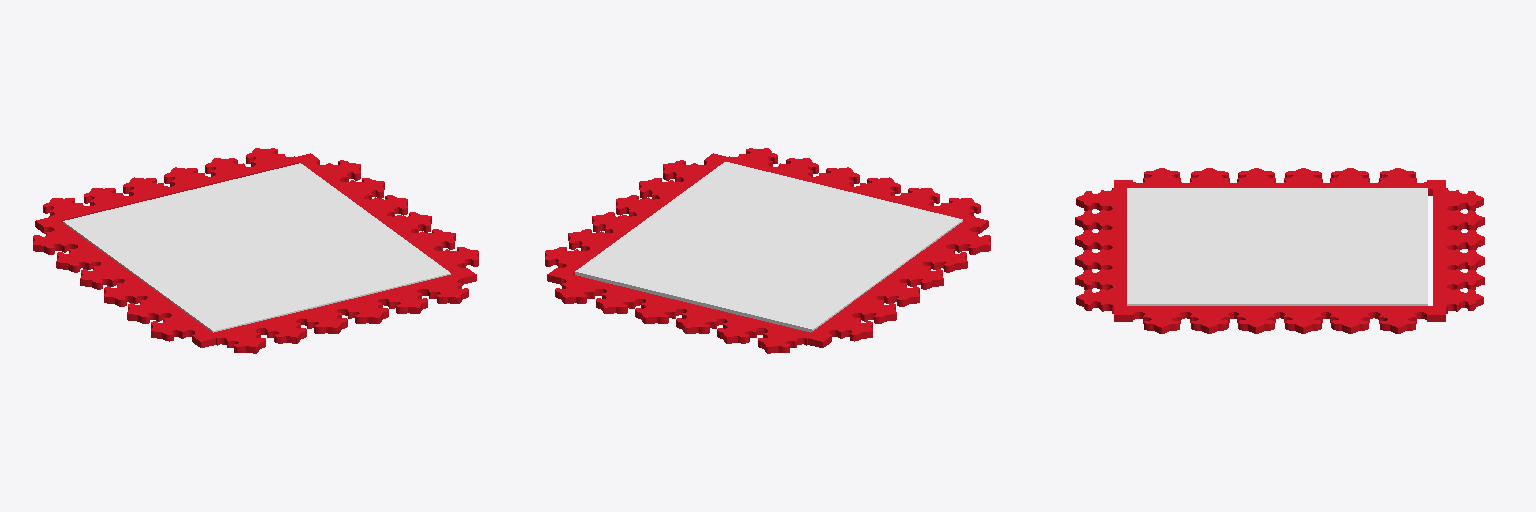
File: tinker.obj
The picture shows the model from 3 angles: view 1: azimuth 30°, elevation 25°; view 2: azimuth 150°, elevation 25°; view 3: azimuth 270°, elevation 25°; orthographic projection.
Visible parts, largest first — view 1: obj_0; view 2: obj_0; view 3: obj_0.
Part boxes in pixels (x1,y1,x2,y2): obj_0: (33, 148, 478, 353); obj_0: (545, 148, 990, 353); obj_0: (1075, 168, 1484, 333).
Bounding box in the file's own units: 87 × 4.87 × 94.